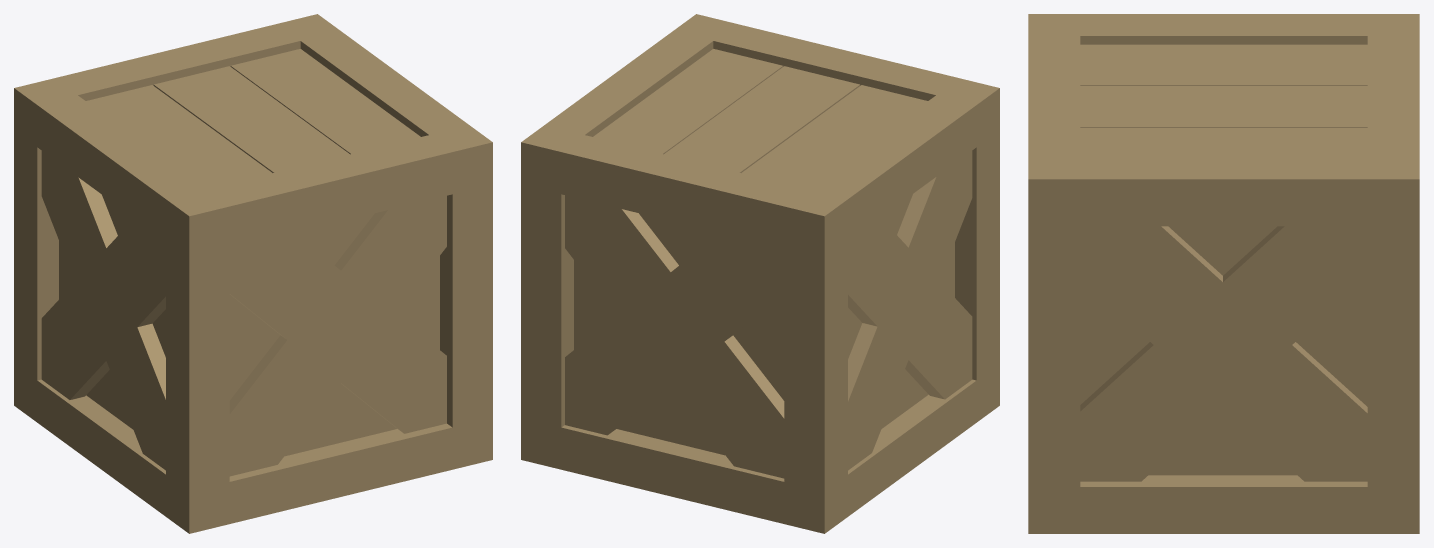
The model's file is Crate.fbx.
3 renders of one model, left to right at view 1: azimuth 30°, elevation 25°; view 2: azimuth 150°, elevation 25°; view 3: azimuth 270°, elevation 25°, orthographic. The views are drawn at different scales.
Visible parts, largest first — view 1: WoodenCrateShape; view 2: WoodenCrateShape; view 3: WoodenCrateShape.
Boxes of the visible parts, x1,y1,x2,y2 form: WoodenCrateShape: (14,14,492,533); WoodenCrateShape: (521,14,999,533); WoodenCrateShape: (1028,14,1419,533).
Size of the model in its own units: 100 by 100 by 100.
